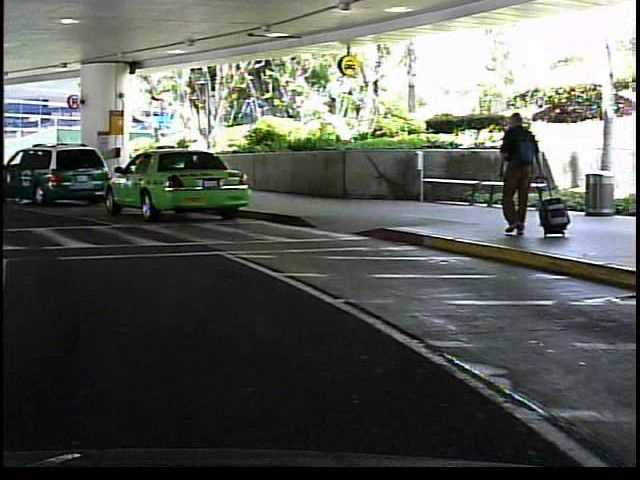person: (487, 109, 547, 246)
